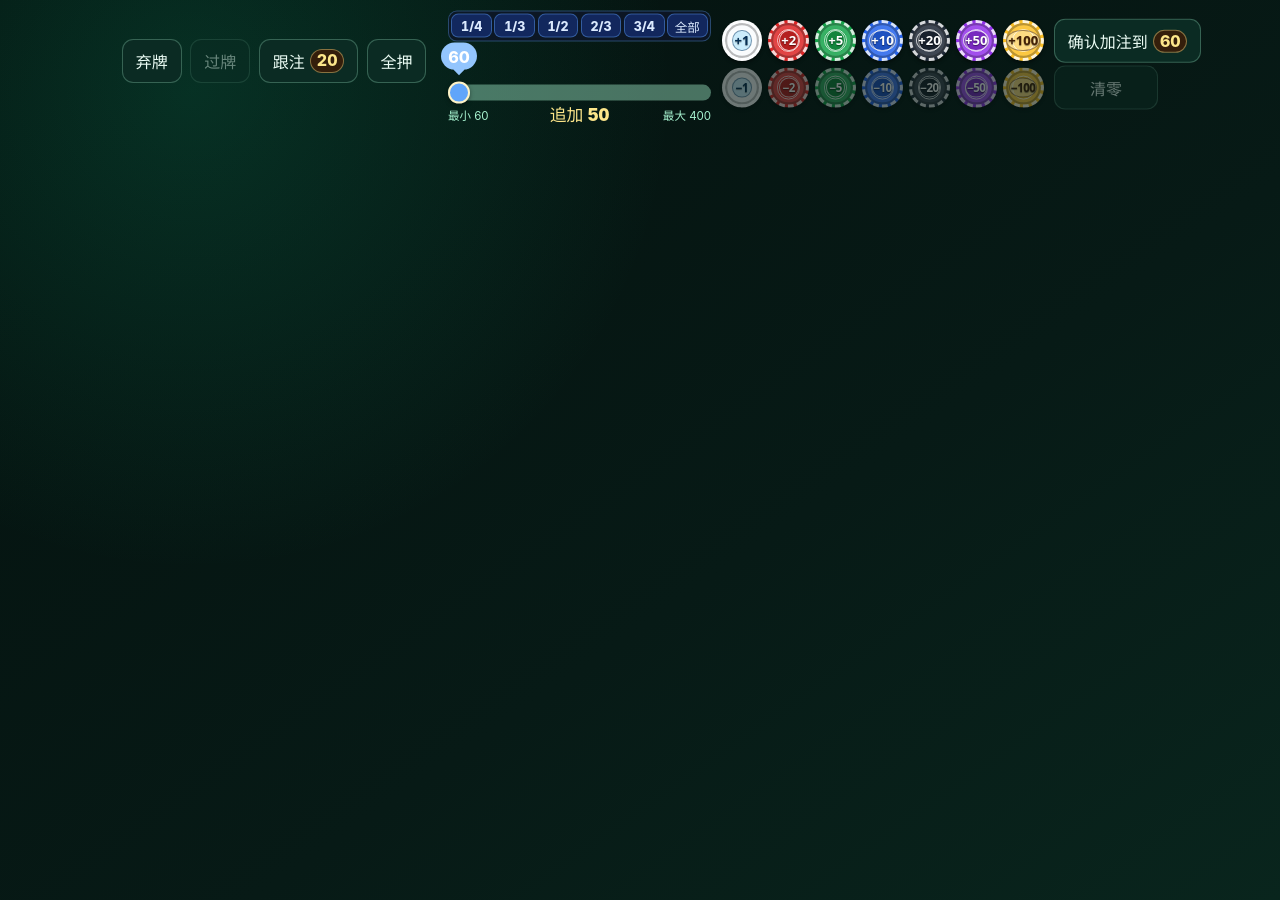
Test: BettingControls › calculates the added amount from the target and own street commitment
Expected: the text "追加 50" is shown, x1=550 y1=107 x2=609 y2=123
Set the slider named "加注增量" to "120" at (543, 93), box x1=448 y1=71 x2=711 y2=115
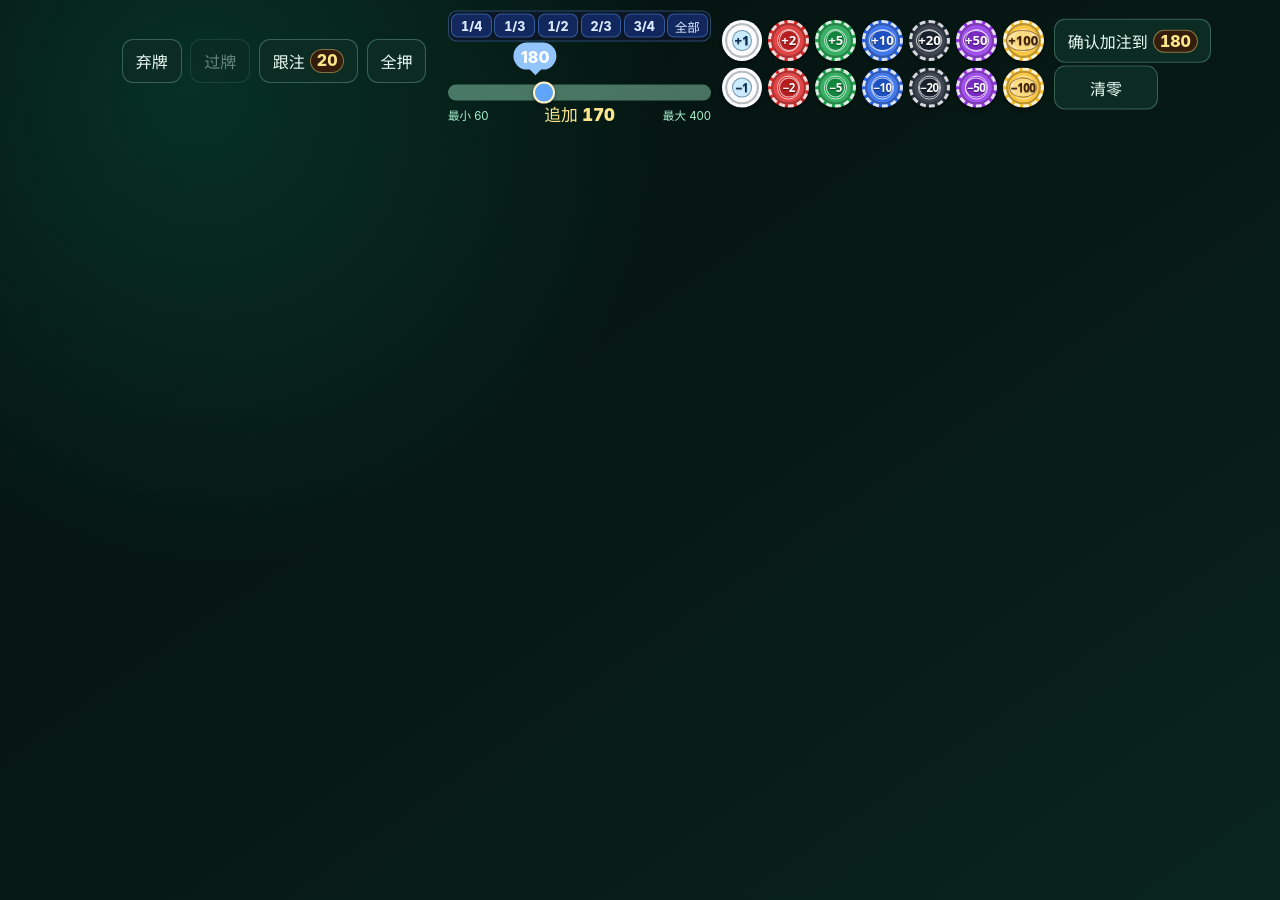
Expected: the text "追加 170" is shown, x1=544 y1=107 x2=615 y2=123
